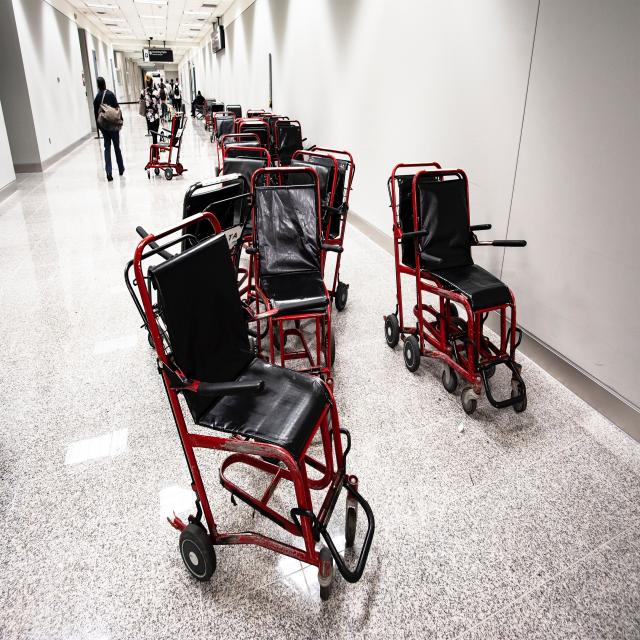wheelchairs: (128, 213, 372, 593), (410, 167, 531, 414), (243, 162, 347, 383)
